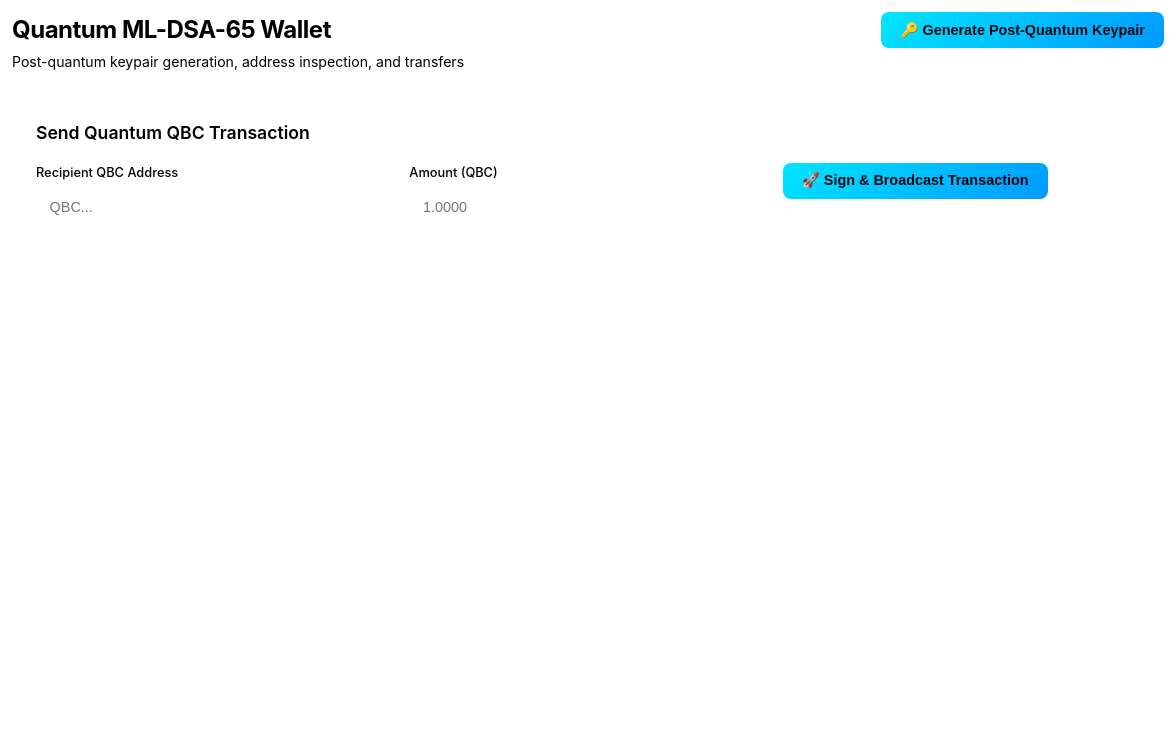
Scenario: React Component Suite (TDD) › WalletTab generates post-quantum keypair and fetches balance
Click the button "🔑 Generate Post-Quantum Keypair".
click(1023, 30)  # box [881,12,1164,48]
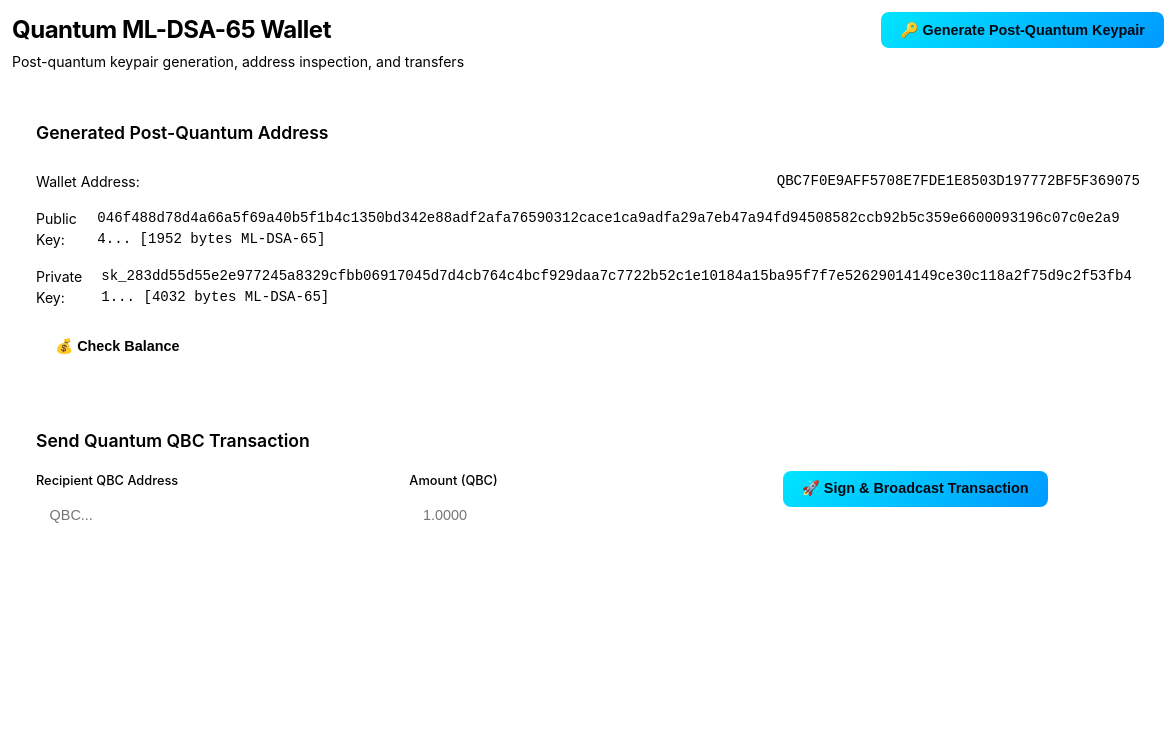
Now the heading "Generated Post-Quantum Address" is shown, box [36,122,328,143]
Click the button "💰 Check Balance".
click(117, 346)  # box [36,328,199,364]
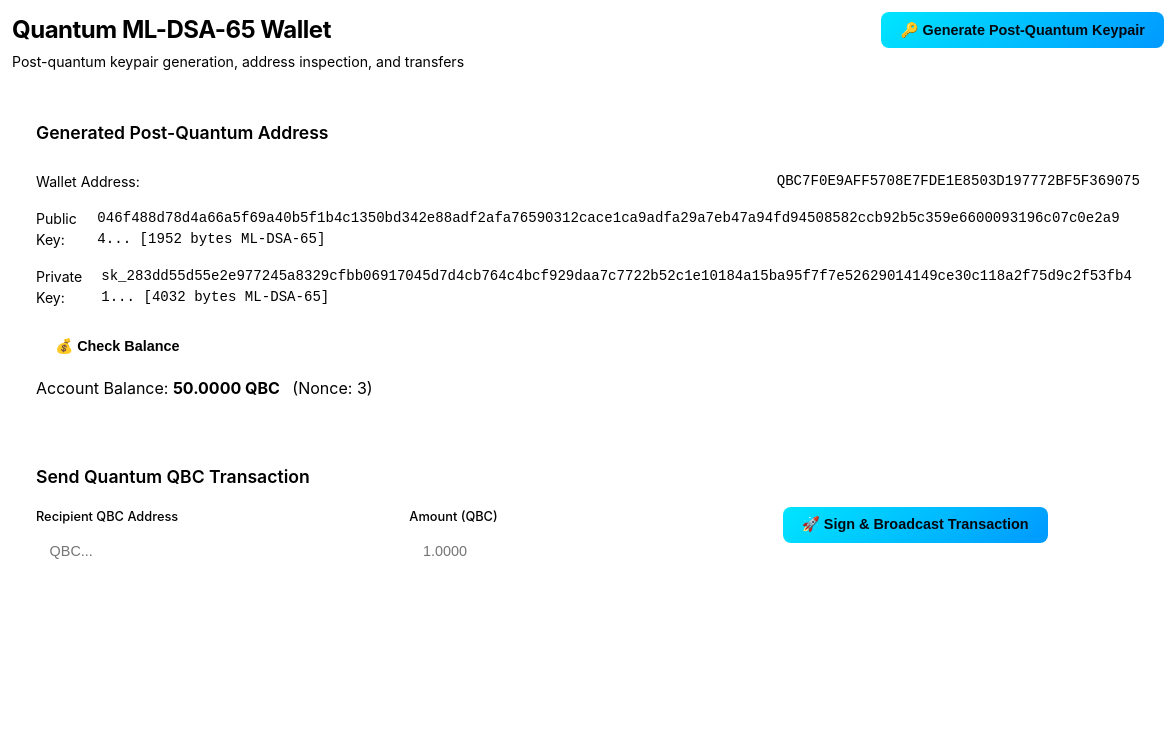
Now the text "50.0000 QBC" is shown, box [173,378,280,398]
